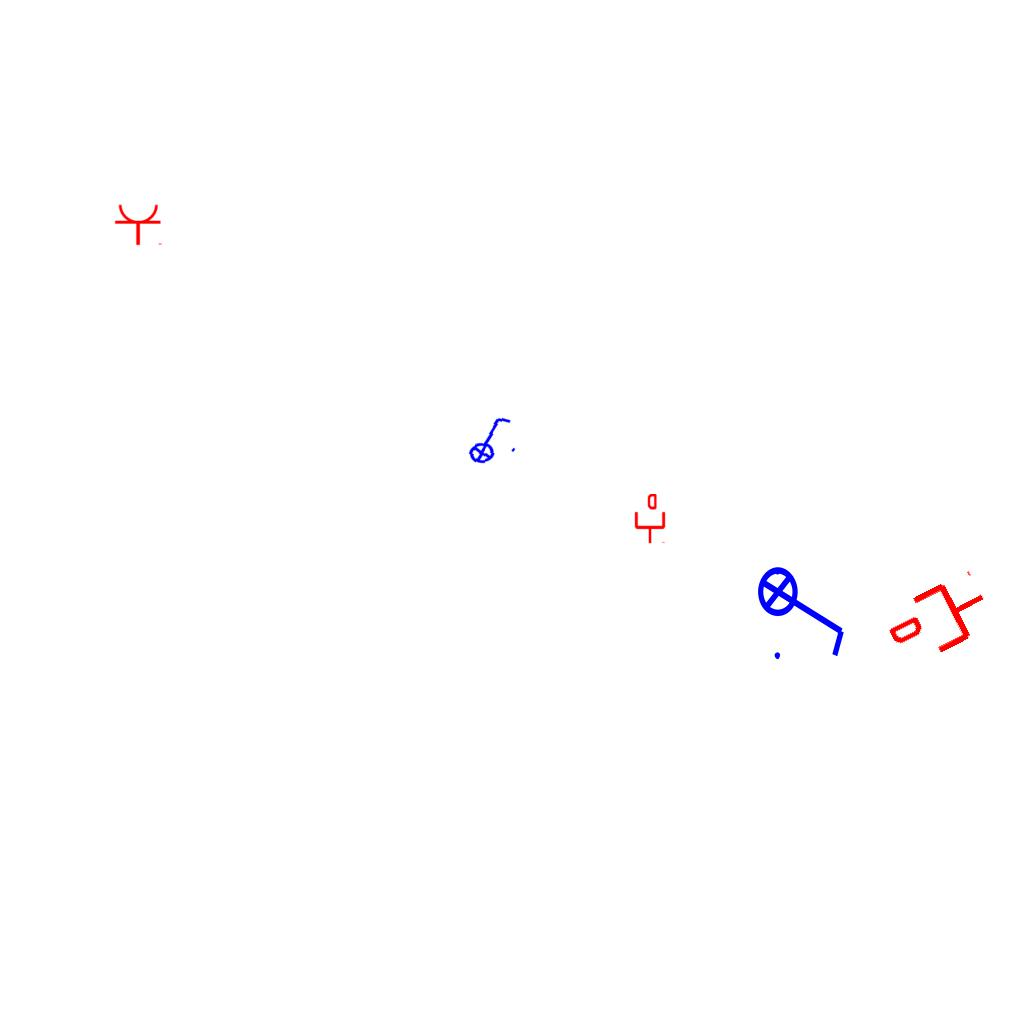Ausschalter_beleuchtet: (756, 553, 852, 665), (458, 412, 520, 466)
Datenanschluss_einfach: (879, 565, 1000, 673), (633, 494, 667, 544)
Schukosteckdose_einfach: (114, 203, 164, 246)
